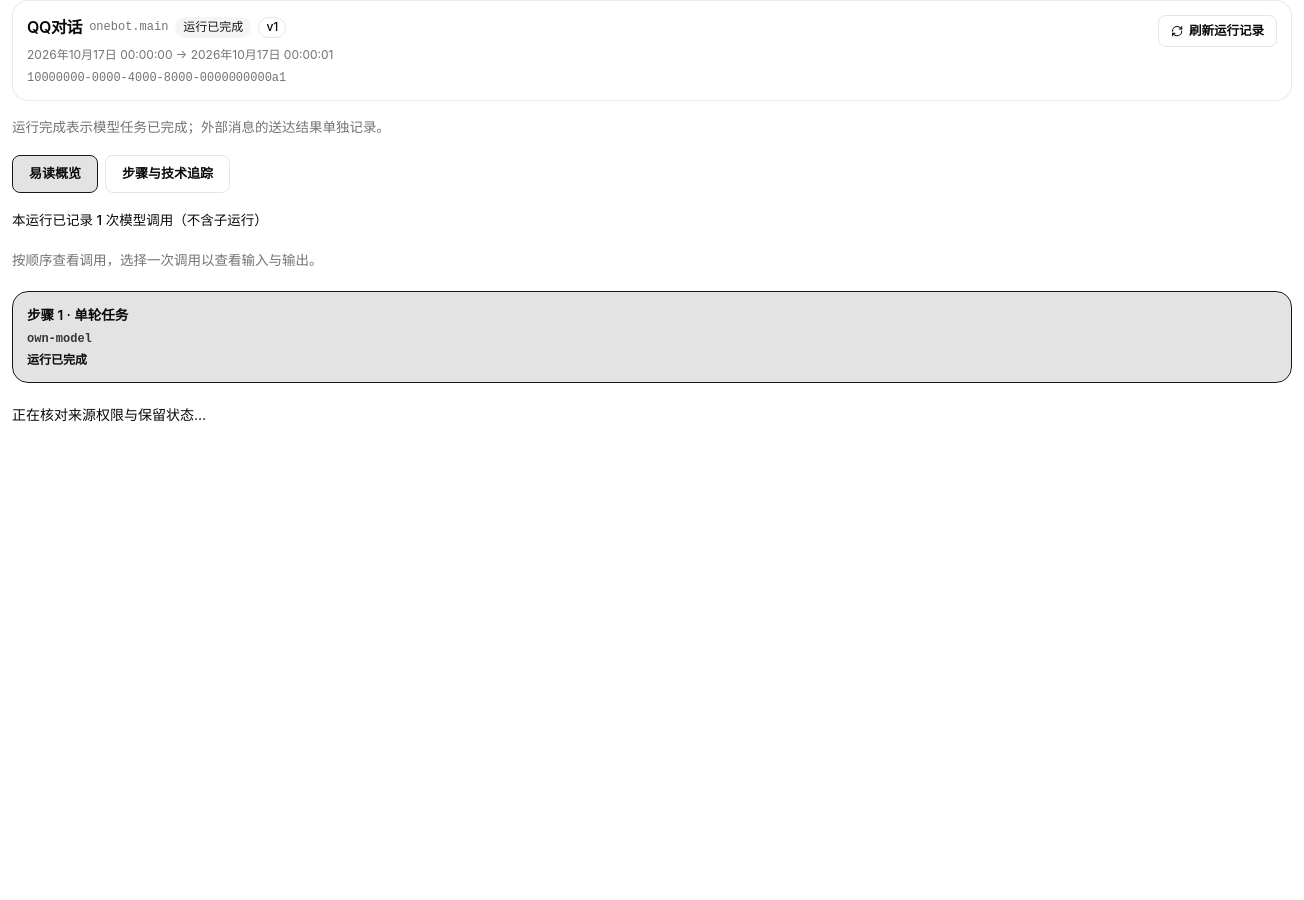
Test: humanized technical single-detail selection › rejects late evidence for a selected fallback step on hide and re-reads on show
This screenshot has width=1304, height=900.
Click the button "步骤与技术追踪": (168, 174) [105,155,230,193]
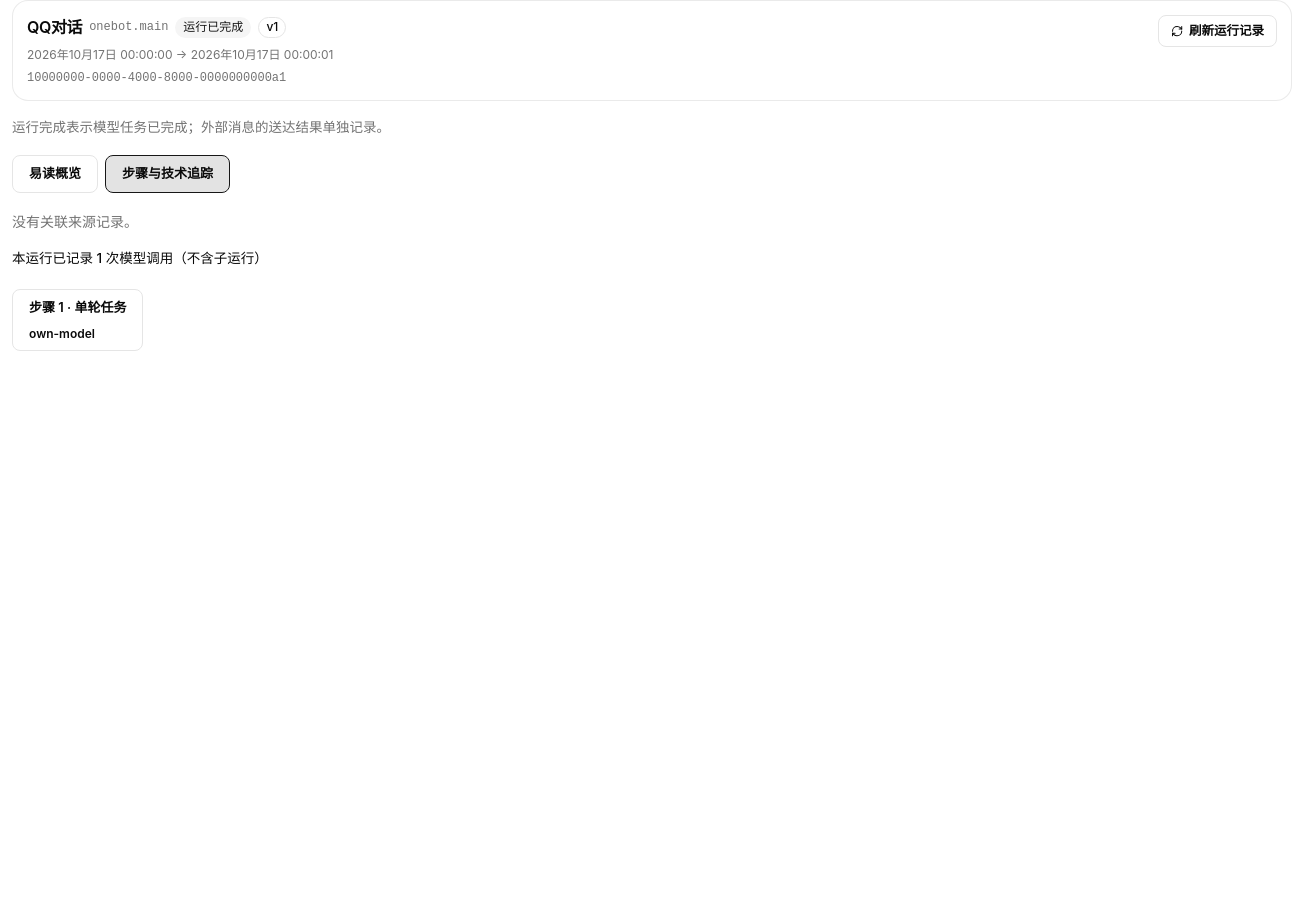
Click the button "步骤 1 · 单轮任务 own-model": (78, 320) [12,289,144,351]
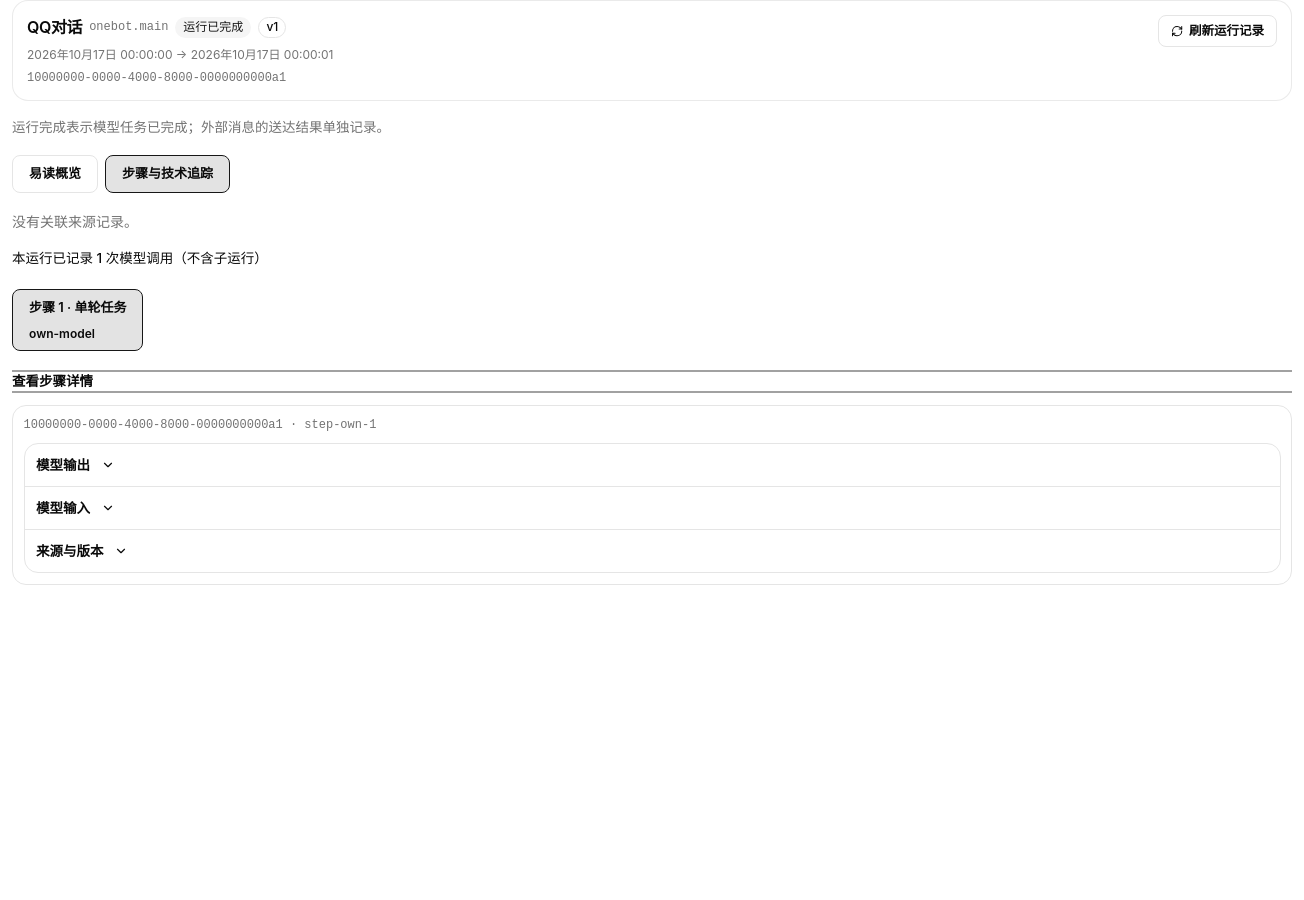
Expected: the number of elements named "模型证据" is 1, [24,443,1280,573]
Expected: the button "模型输入" is shown
Click the button "模型输入": (75, 508) [24,487,126,529]
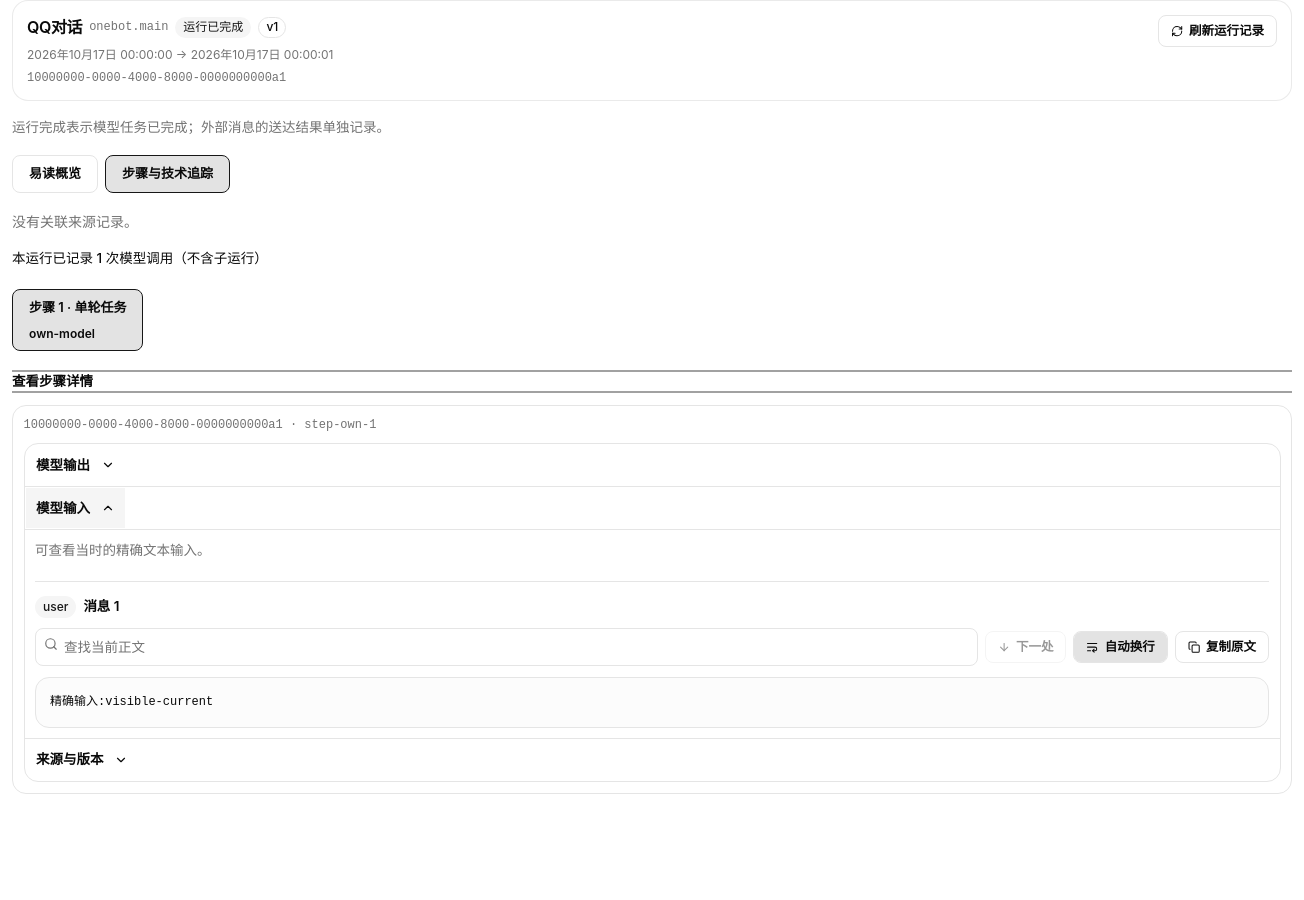
Expected: the text "精确输入:visible-current" is shown, [35,676,1269,728]
